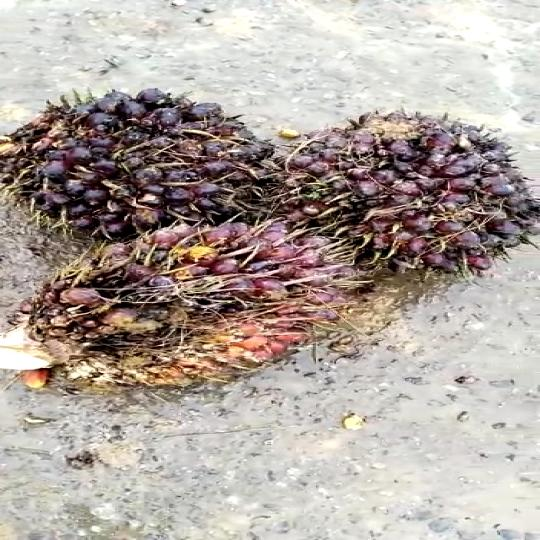kurang masak: (2, 221, 351, 419), (289, 112, 540, 278), (0, 89, 259, 232)
